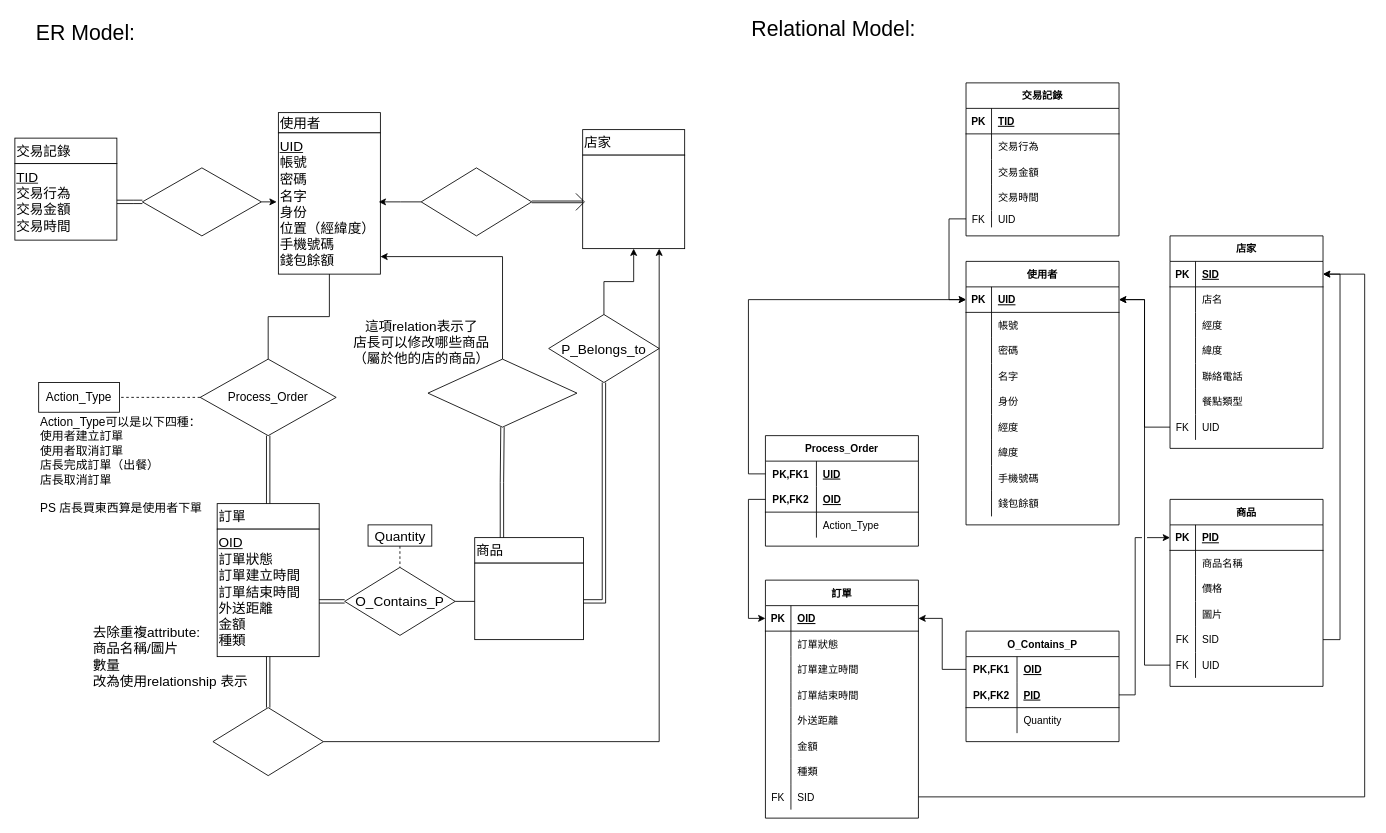
This 1386x833 diagram has some shape labels left out. The shapes that lost their labels are listed below. From the top down, each one's centre as x and y in pixels, then its label:
At pixel 201 201: "Transaction".
At pixel 476 201: "Is_Owner".
At pixel 633 201: "SID 店名 位置（經緯度） 聯絡電話 餐點類型".
At pixel 502 392: "Can_Modify_P".
At pixel 529 601: "PID 商品名稱 價格 圖片".
At pixel 267 741: "O_Belongs_to".
